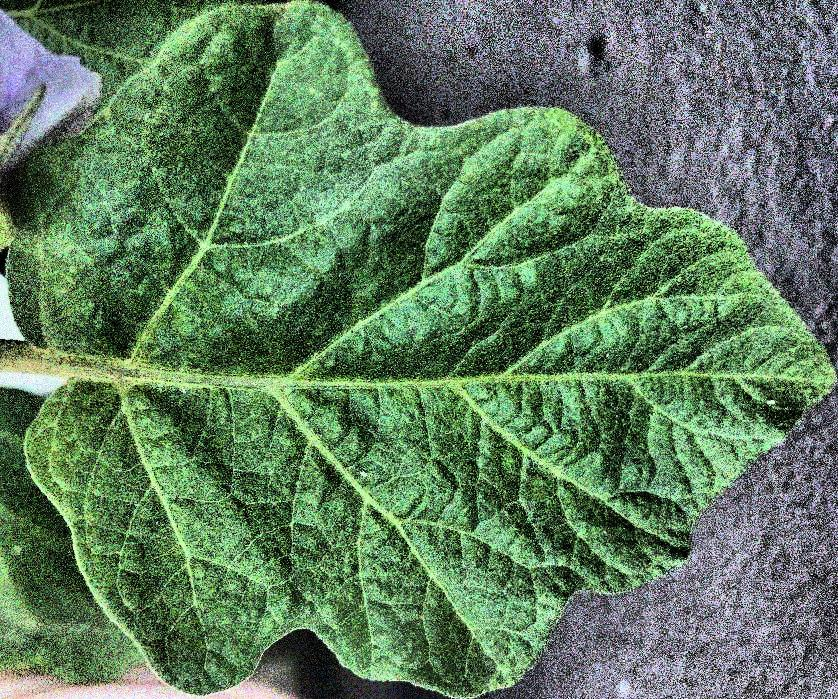HEALTHY: (1, 1, 838, 699)
